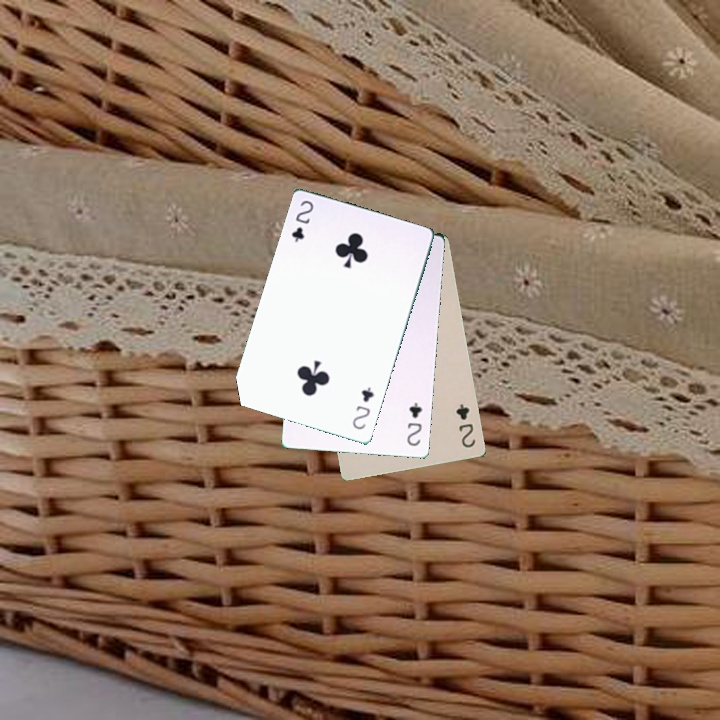2c: (348, 383, 377, 432), (287, 196, 316, 245), (452, 400, 478, 450), (403, 398, 424, 449)
